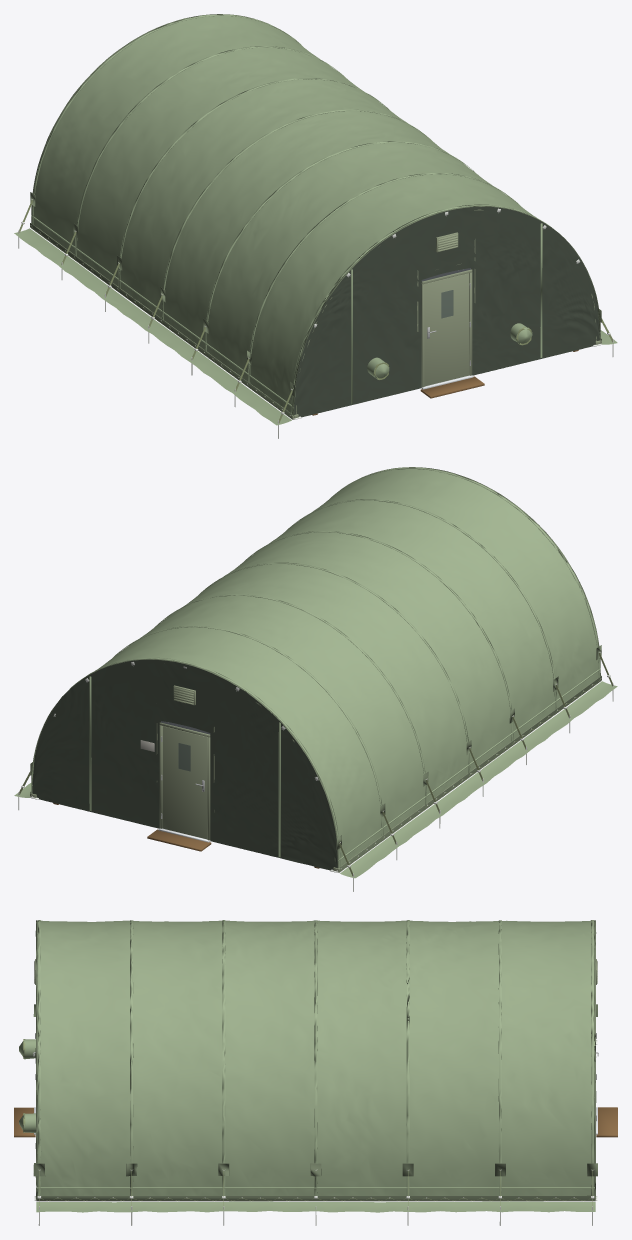
File: mts-camp.glb
The picture shows the model from 3 angles, top to bottom: view 1: azimuth 30°, elevation 25°; view 2: azimuth 150°, elevation 25°; view 3: azimuth 270°, elevation 25°; orthographic projection. The views are drawn at different scales.
Visible parts, largest first — view 1: MTS_shelter, MTS_floor; view 2: MTS_shelter, MTS_floor; view 3: MTS_shelter, MTS_floor.
Part boxes in pixels (x1,y1,x2,y2): MTS_shelter: (14, 14, 617, 438); MTS_floor: (312, 268, 578, 415); MTS_shelter: (14, 467, 617, 891); MTS_floor: (53, 721, 319, 868); MTS_shelter: (19, 920, 598, 1225); MTS_floor: (14, 1107, 617, 1137).
Size of the model in its own units: 6.94 by 3.66 by 9.98.
